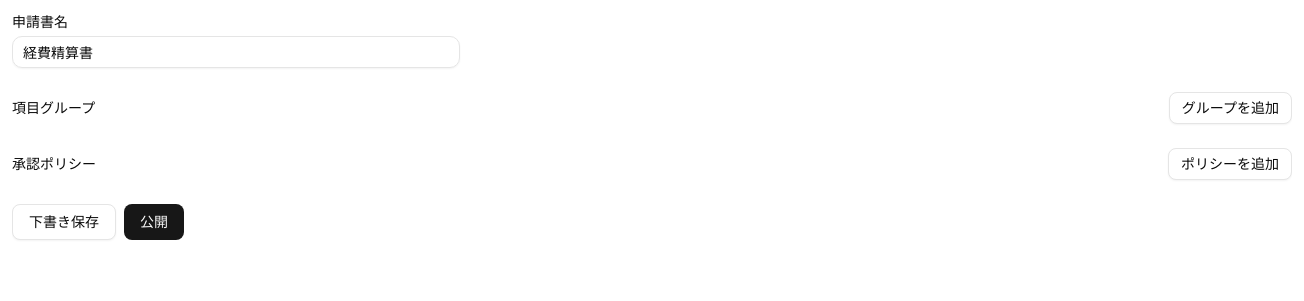
it: DocumentFormBuilder › shows the error message returned by publishDocumentAction without redirecting
Click the button "公開" at (154, 222), box [124, 204, 184, 240]
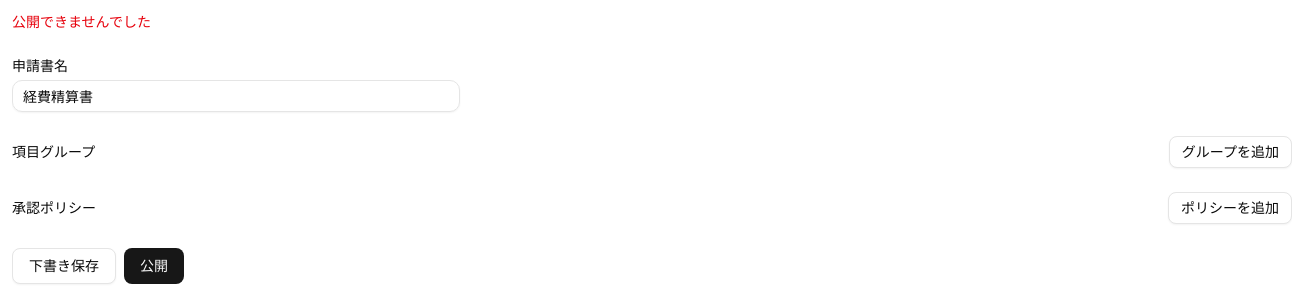
Expected: the message reads "公開できませんでした", [12, 13, 151, 31]
